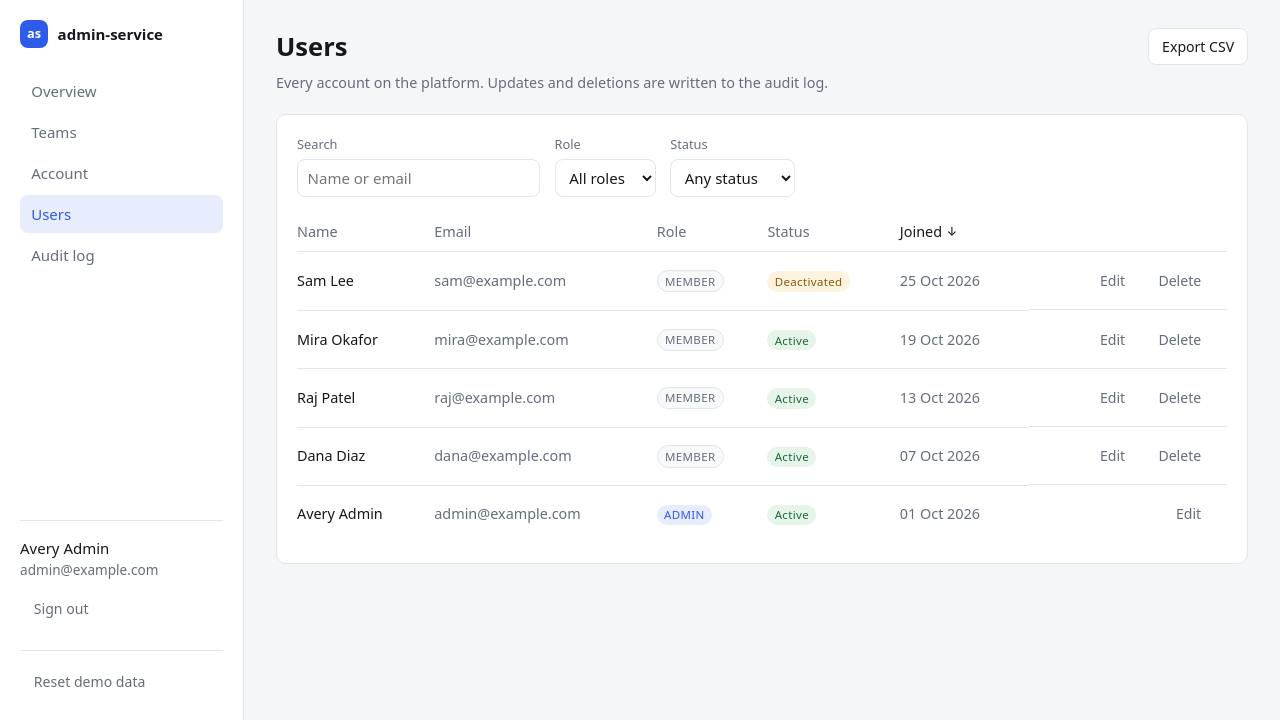
Test: the users screen › deletes an account only after the action is confirmed
This screenshot has width=1280, height=720.
Step 1. Click the button "Delete" in the row of "Mira Okafor" → (1180, 339), box [1145, 321, 1215, 357]
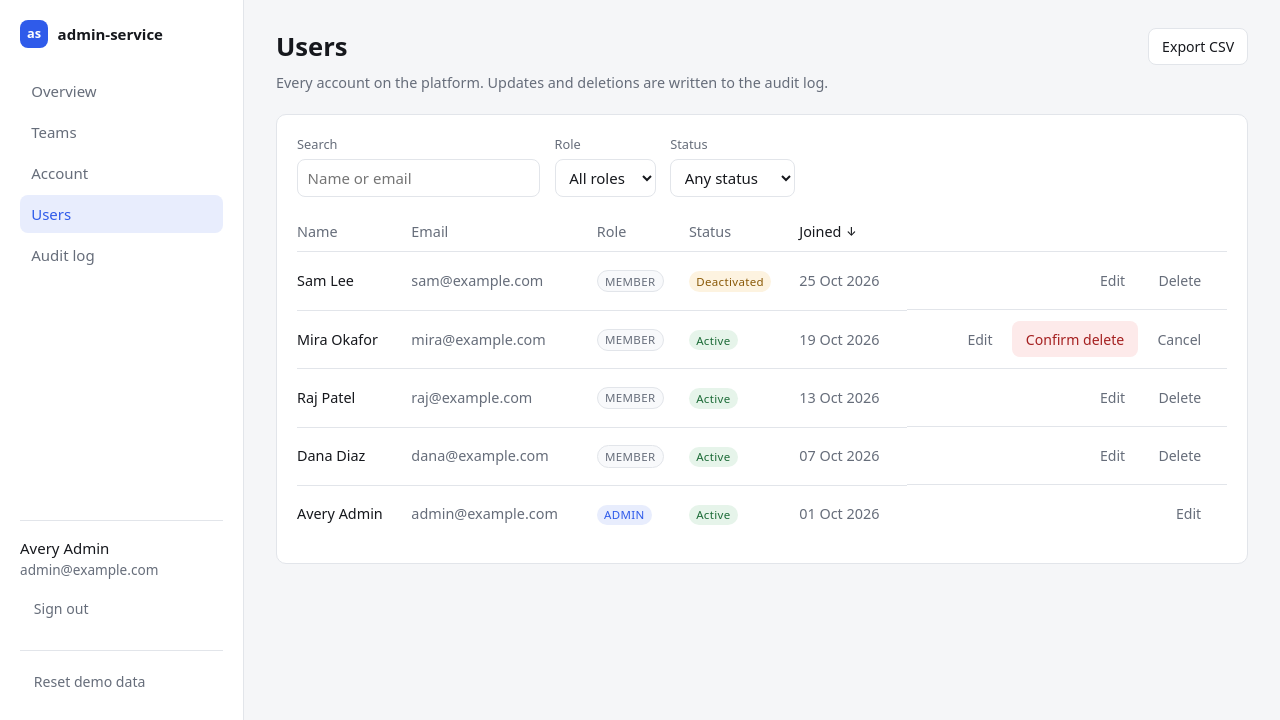
Step 2. Click the button "Confirm delete" → (1075, 339), box [1012, 321, 1138, 357]
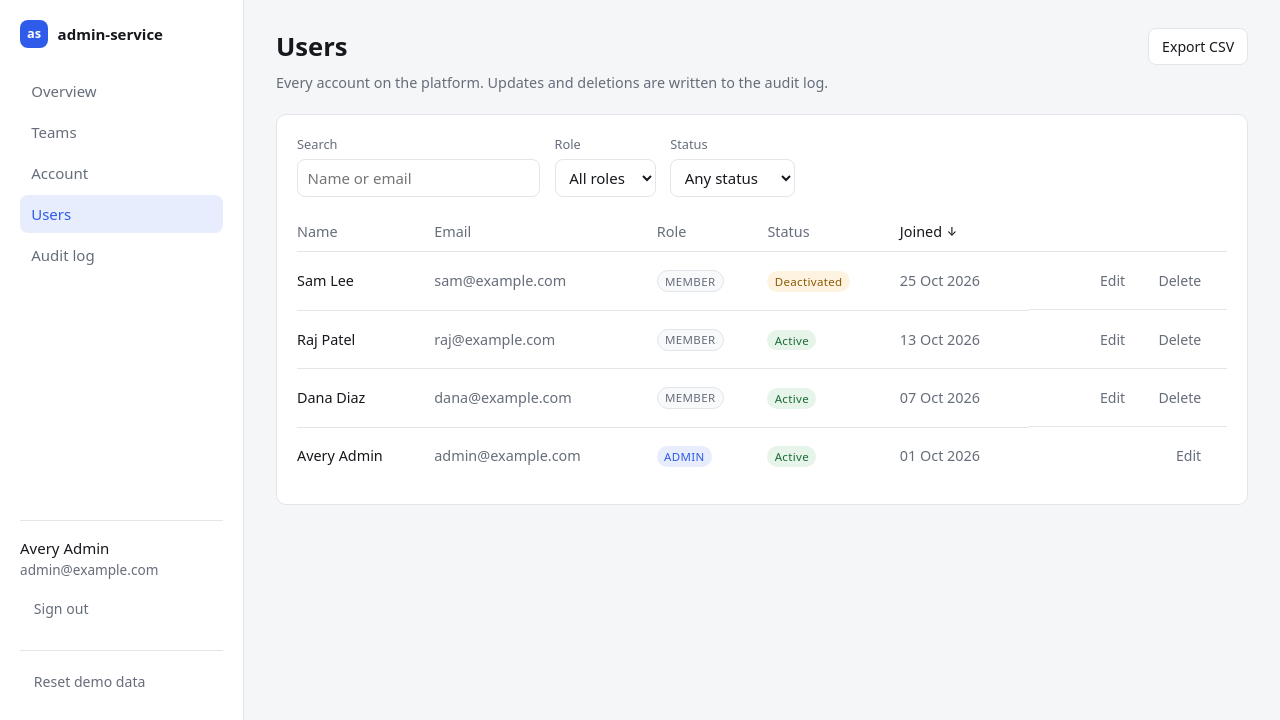
Expected: the text "Mira Okafor" is gone
